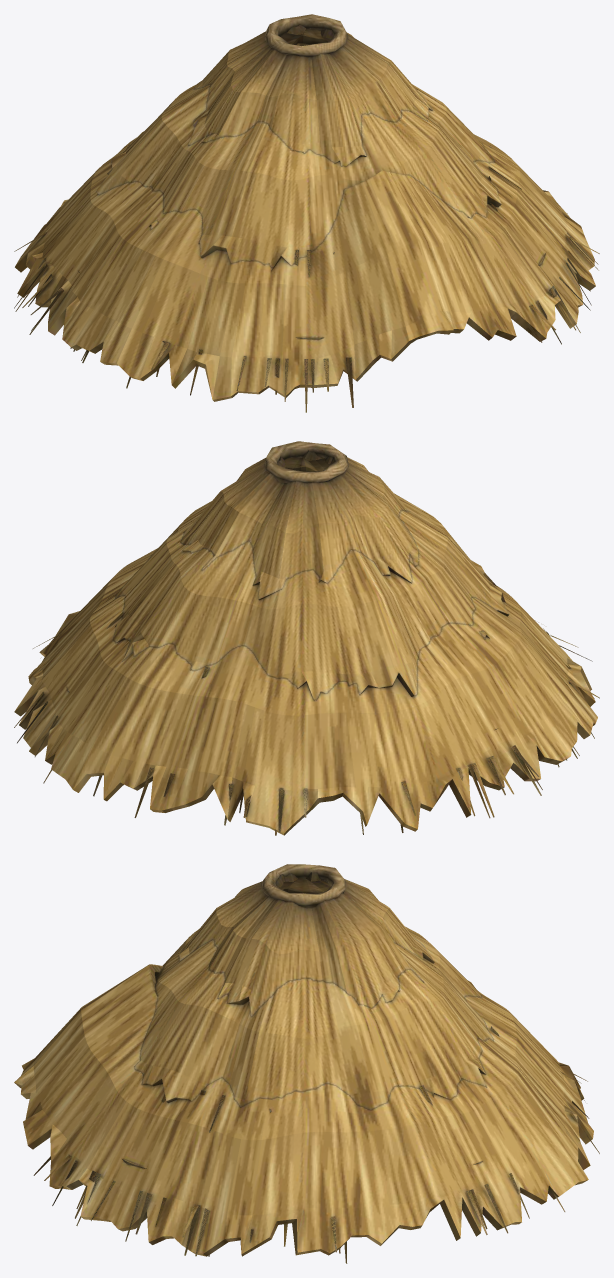
File: hut_thatch.gltf
The picture shows the model from 3 angles, top to bottom: view 1: azimuth 30°, elevation 25°; view 2: azimuth 150°, elevation 25°; view 3: azimuth 270°, elevation 25°; orthographic projection. The views are drawn at different scales.
Parts seen in each view (by area): view 1: hut_thatch; view 2: hut_thatch; view 3: hut_thatch.
Boxes of the visible parts, <box> form: hut_thatch: <box>14,14,599,412</box>; hut_thatch: <box>14,441,599,835</box>; hut_thatch: <box>14,864,599,1263</box>.
Bounding box in the file's own units: 4.84 × 2.38 × 4.71.
2 materials, 2 textured.
